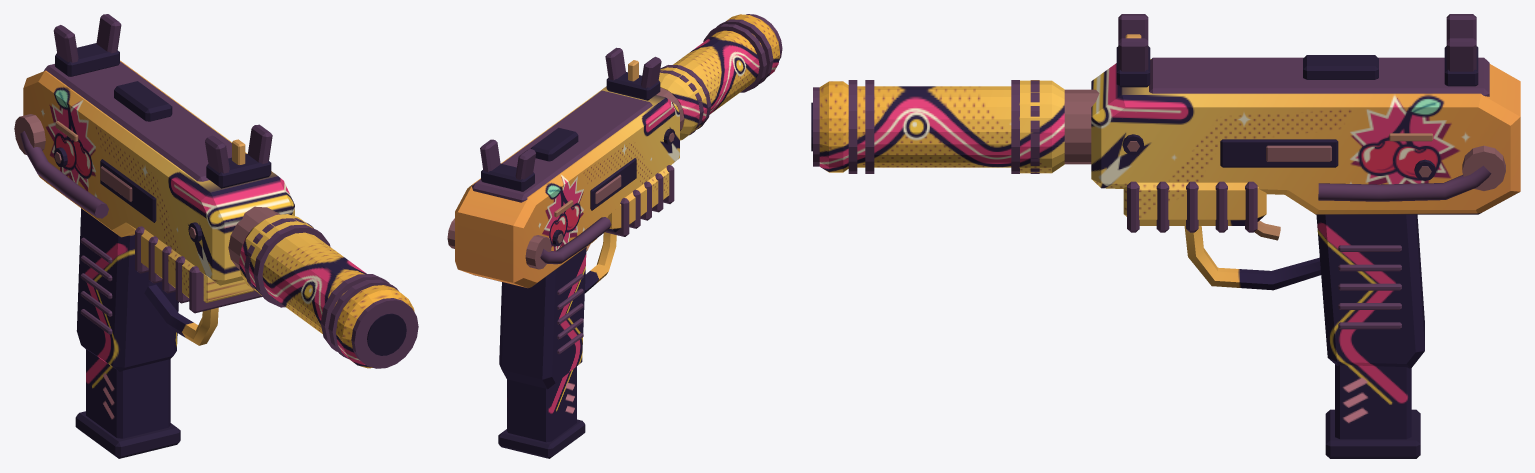
The model's file is Uzi_CherryTilt.glb.
3 renders of one model, left to right at view 1: azimuth 30°, elevation 25°; view 2: azimuth 150°, elevation 25°; view 3: azimuth 270°, elevation 25°, orthographic. The views are drawn at different scales.
Visible parts, largest first — view 1: Main, Suppressor, Magazine, Stock; view 2: Main, Suppressor, Magazine, Stock; view 3: Main, Suppressor, Magazine, Stock.
Part boxes in pixels (x1,y1,x2,y2): Main: (23, 14, 294, 371); Suppressor: (228, 206, 418, 368); Magazine: (75, 349, 180, 458); Stock: (14, 114, 108, 218); Main: (455, 47, 679, 389); Suppressor: (656, 14, 782, 140); Magazine: (498, 366, 585, 458); Stock: (447, 217, 611, 269); Main: (1091, 14, 1520, 368); Suppressor: (811, 80, 1099, 173); Magazine: (1325, 364, 1420, 458); Stock: (1318, 145, 1505, 201).
Bounding box in the file's own units: 0.5299 × 1.64 × 2.53.
Materials: 1 (1 with a texture image).
